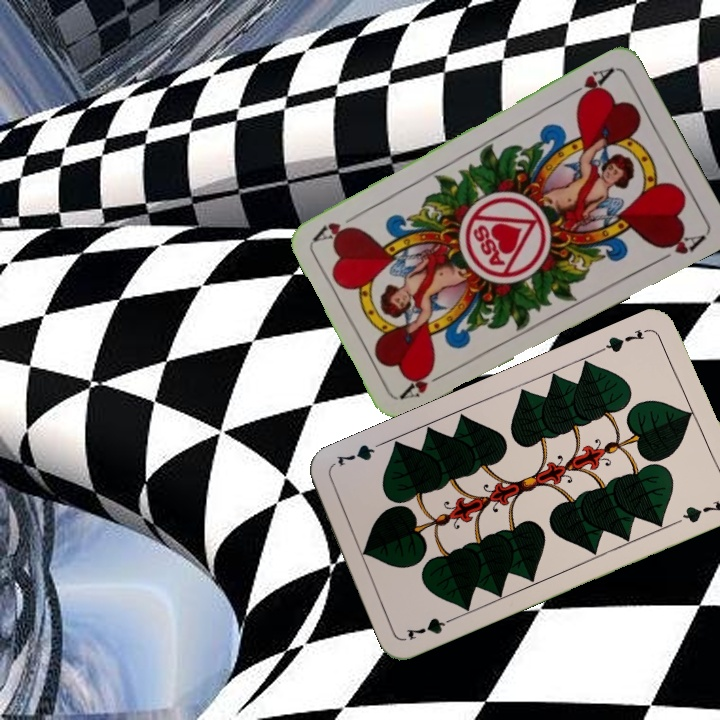G7: (402, 612, 460, 643), (596, 324, 648, 355)
HA: (396, 362, 452, 402), (565, 63, 617, 105)
